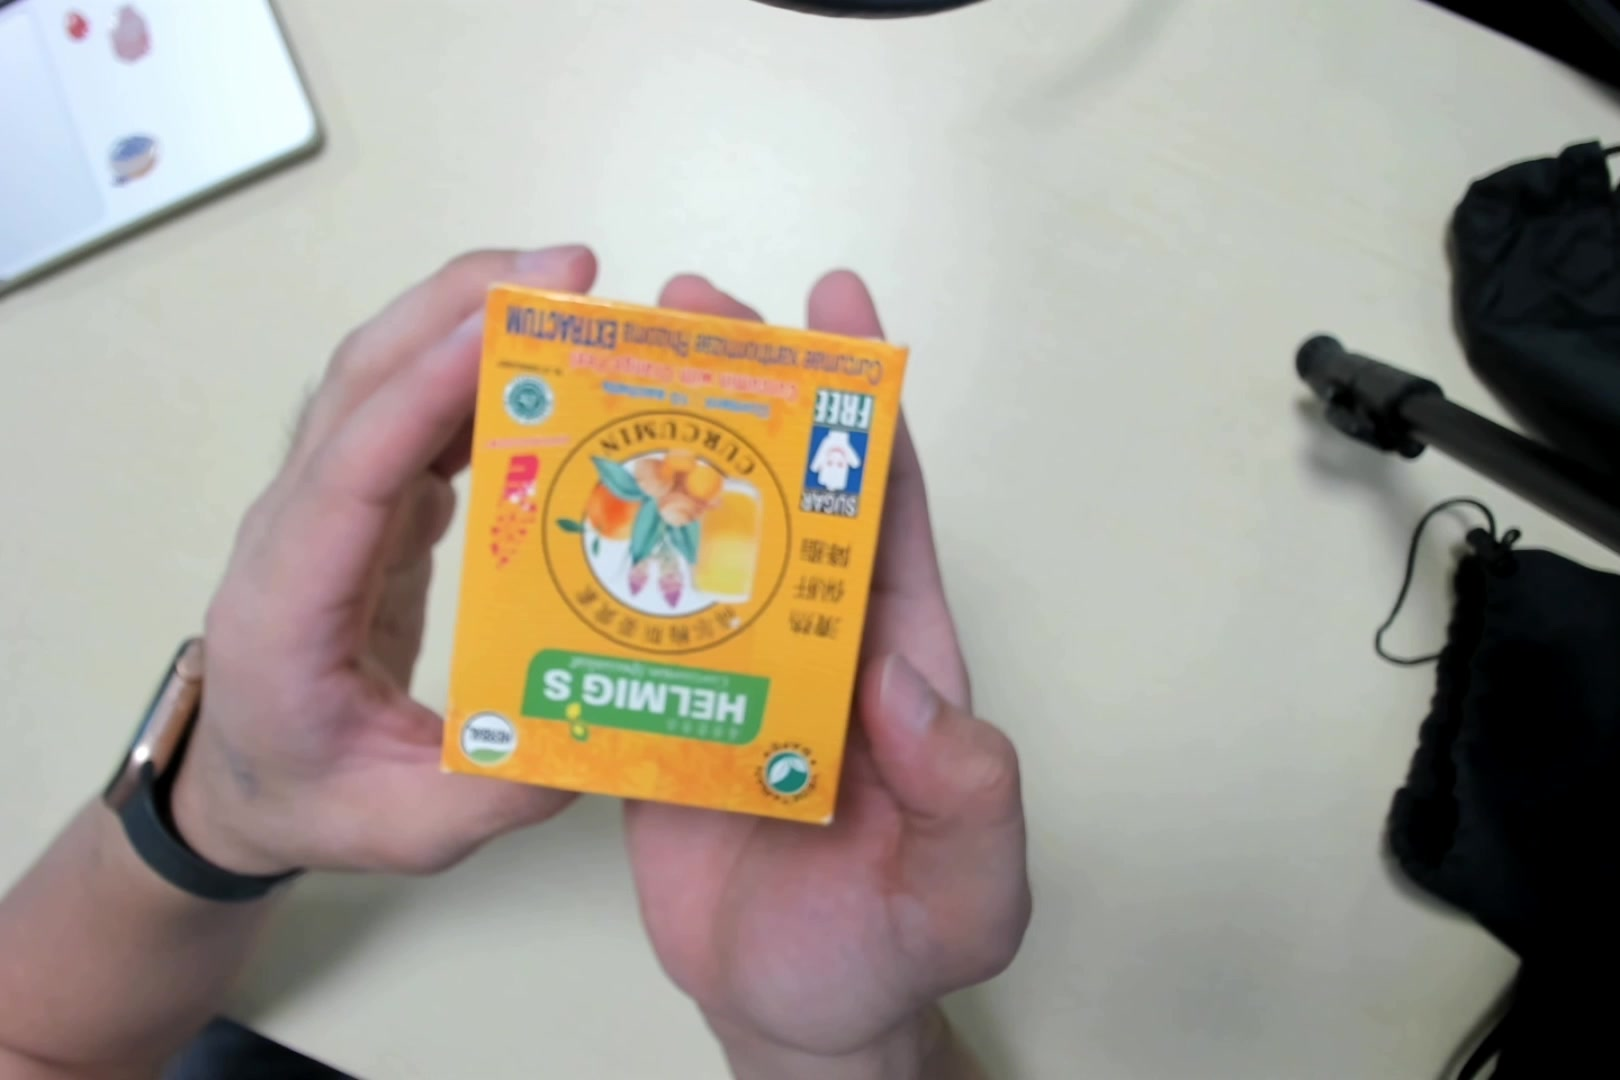OtherHotBeverages(Powder)_0-99g_Halal_NonHealthy: (447, 284, 896, 835)
